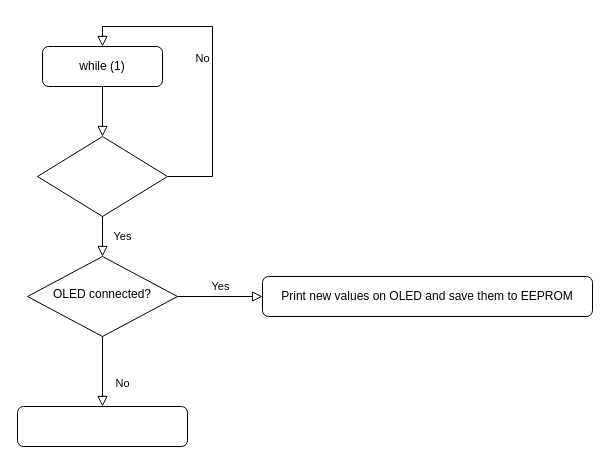
Image size: 610x464. Some labels were removed from this diagram. Here are the shapes that lost their labels. From the top down, the box of each, then its label:
(36, 136, 168, 216): new sensor data = 1
(16, 406, 188, 446): Save new data to EEPROM
